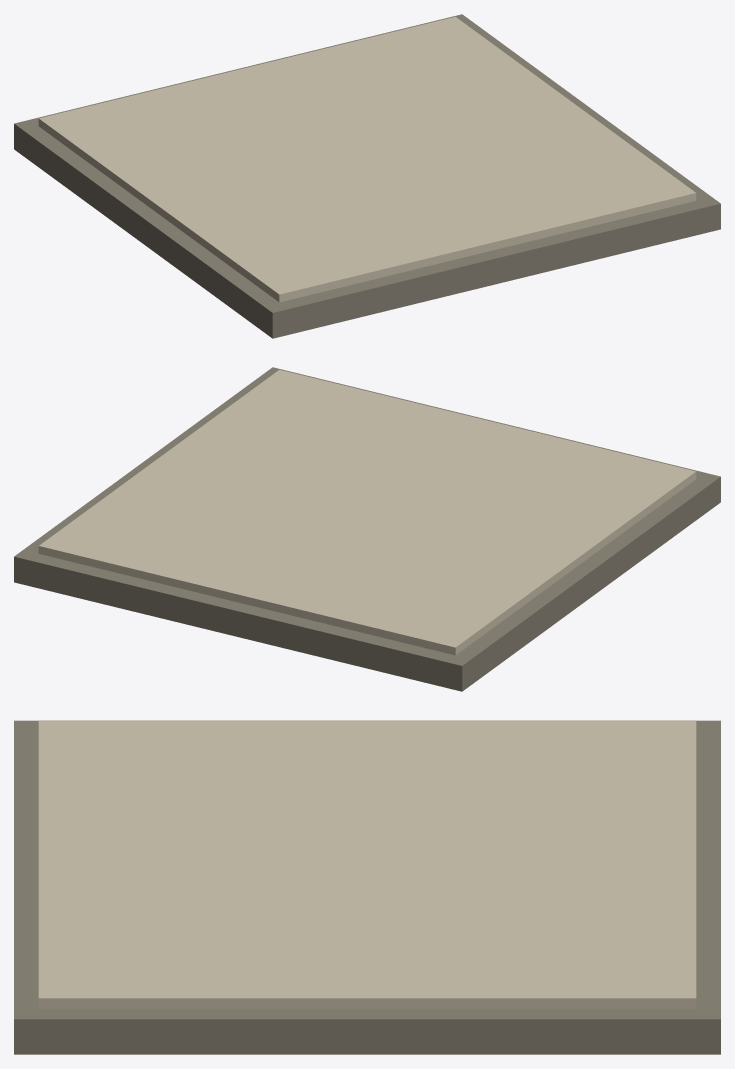
The model's file is k_meadow_floor.glb.
The picture shows the model from 3 angles, top to bottom: view 1: azimuth 30°, elevation 25°; view 2: azimuth 150°, elevation 25°; view 3: azimuth 270°, elevation 25°; orthographic projection. The views are drawn at different scales.
Parts seen in each view (by area): view 1: piece; view 2: piece; view 3: piece.
Part boxes in pixels (x1,y1,x2,y2): piece: (14,14,720,338); piece: (14,367,720,691); piece: (14,720,720,1054).
Bounding box in the file's own units: 1 × 0.0719 × 1.
